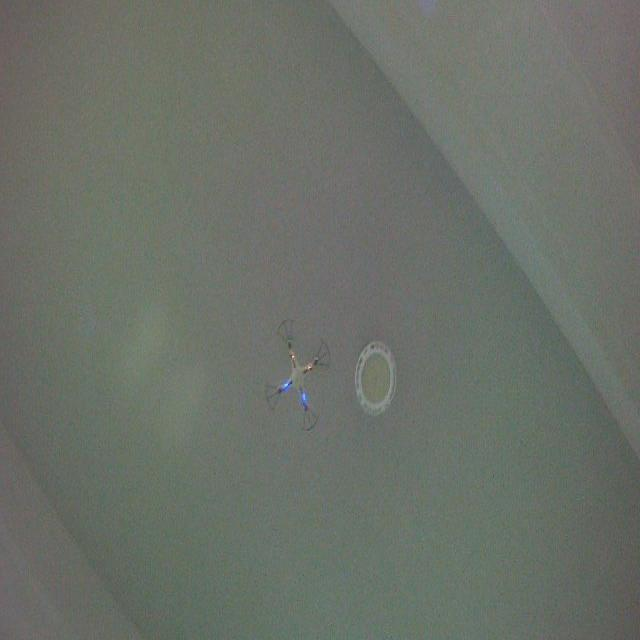drone: (261, 316, 333, 436)
